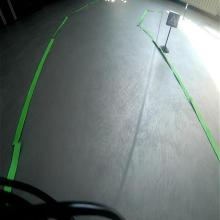crosswalk: (166, 11, 180, 29)
